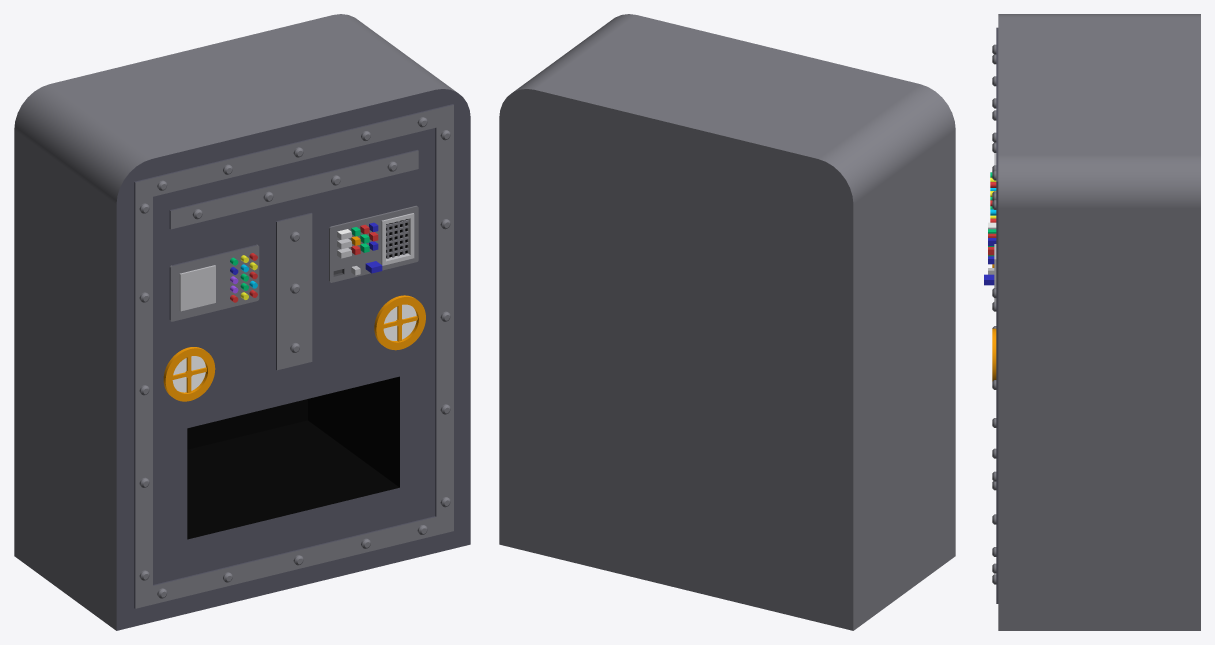
The model's file is vending_machine.glb.
The picture shows the model from 3 angles, left to right: view 1: azimuth 30°, elevation 25°; view 2: azimuth 150°, elevation 25°; view 3: azimuth 270°, elevation 25°; orthographic projection.
Visible parts, largest first — view 1: SOLID, Left Panel, Right Circle, Left Circle, Right Panel014; view 2: SOLID; view 3: SOLID.
Part boxes in pixels (x1,y1,x2,y2): SOLID: [14, 14, 470, 630]; Left Panel: [179, 265, 215, 311]; Right Circle: [374, 295, 425, 350]; Left Circle: [163, 347, 215, 401]; Right Panel014: [381, 213, 414, 265]; SOLID: [499, 14, 955, 630]; SOLID: [996, 14, 1200, 630].
Bounding box in the file's own units: 2 × 2.5 × 1.07.
